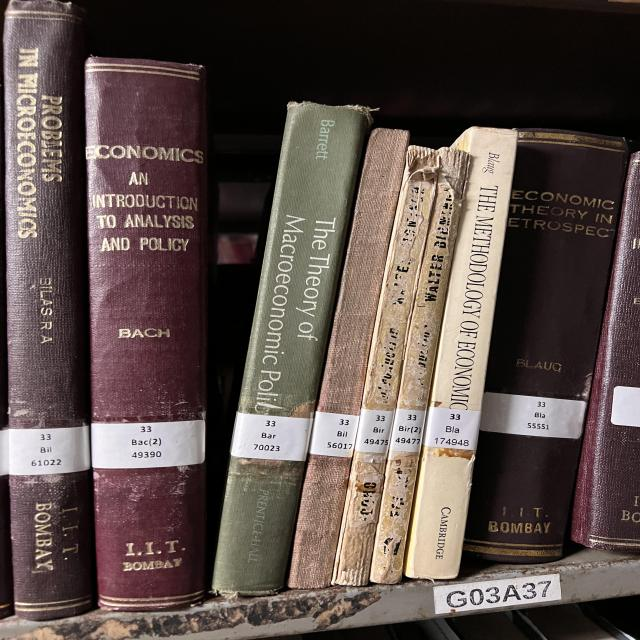Book: (212, 102, 372, 596), (463, 129, 628, 562), (85, 58, 207, 610), (3, 0, 93, 620), (288, 129, 408, 589), (405, 128, 517, 579), (332, 146, 438, 586), (370, 148, 470, 584)
Label: (92, 420, 205, 469), (480, 392, 587, 439), (8, 425, 90, 475), (230, 412, 313, 461), (423, 408, 482, 450), (310, 411, 360, 458), (355, 409, 395, 452), (390, 409, 425, 452)
